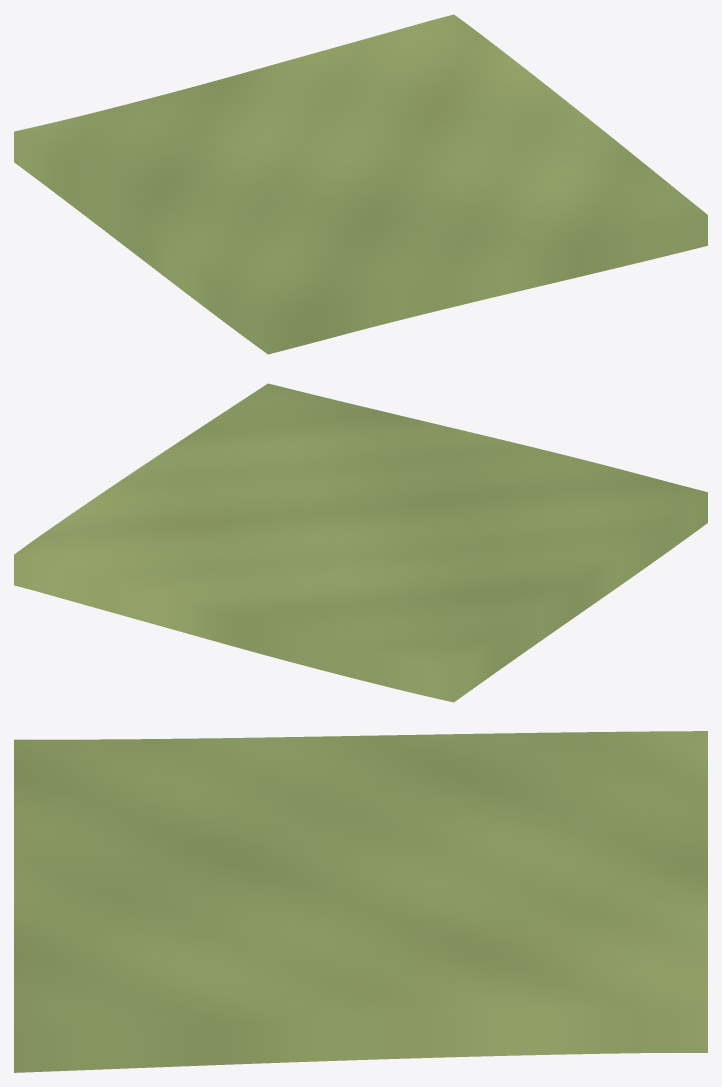
3 views of the same model, one above another, from view 1: azimuth 30°, elevation 25°; view 2: azimuth 150°, elevation 25°; view 3: azimuth 270°, elevation 25° (orthographic). The views are drawn at different scales.
Visible parts, largest first — view 1: terrain; view 2: terrain; view 3: terrain.
Part boxes in pixels (<box>): terrain: <box>14,14,707,354</box>; terrain: <box>14,383,707,702</box>; terrain: <box>14,731,707,1072</box>.
Size of the model in its own units: 30 by 3.05 by 30.
